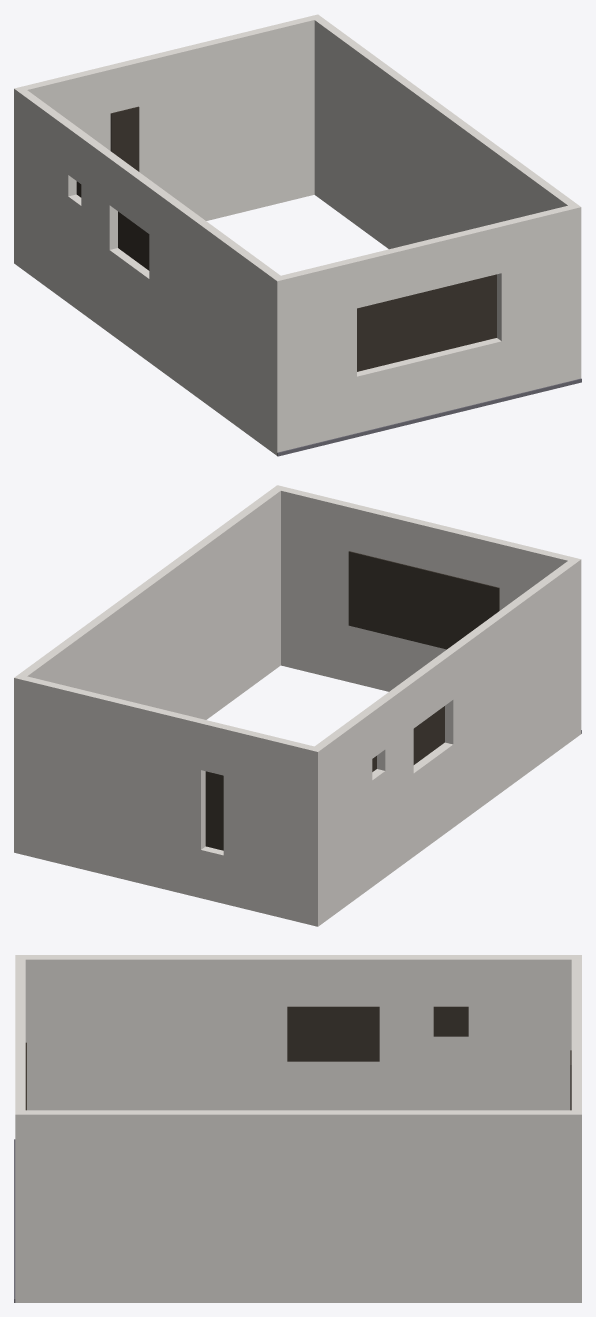
File: SM_Floor_NarrowUpperWindowEndL_White_546_Back_01.gltf
The picture shows the model from 3 angles, top to bottom: view 1: azimuth 30°, elevation 25°; view 2: azimuth 150°, elevation 25°; view 3: azimuth 270°, elevation 25°; orthographic projection. The views are drawn at different scales.
Parts seen in each view (by area): view 1: SM_Floor_NarrowUpperWindowEndL_White_546_Back_01; view 2: SM_Floor_NarrowUpperWindowEndL_White_546_Back_01; view 3: SM_Floor_NarrowUpperWindowEndL_White_546_Back_01.
Part boxes in pixels (x1=…): SM_Floor_NarrowUpperWindowEndL_White_546_Back_01: x1=14, y1=14, x2=581, y2=456; SM_Floor_NarrowUpperWindowEndL_White_546_Back_01: x1=14, y1=485, x2=581, y2=926; SM_Floor_NarrowUpperWindowEndL_White_546_Back_01: x1=14, y1=955, x2=581, y2=1302.
Bounding box in the file's own units: 5.46 × 3 × 8.21.
1 material, 1 textured.
